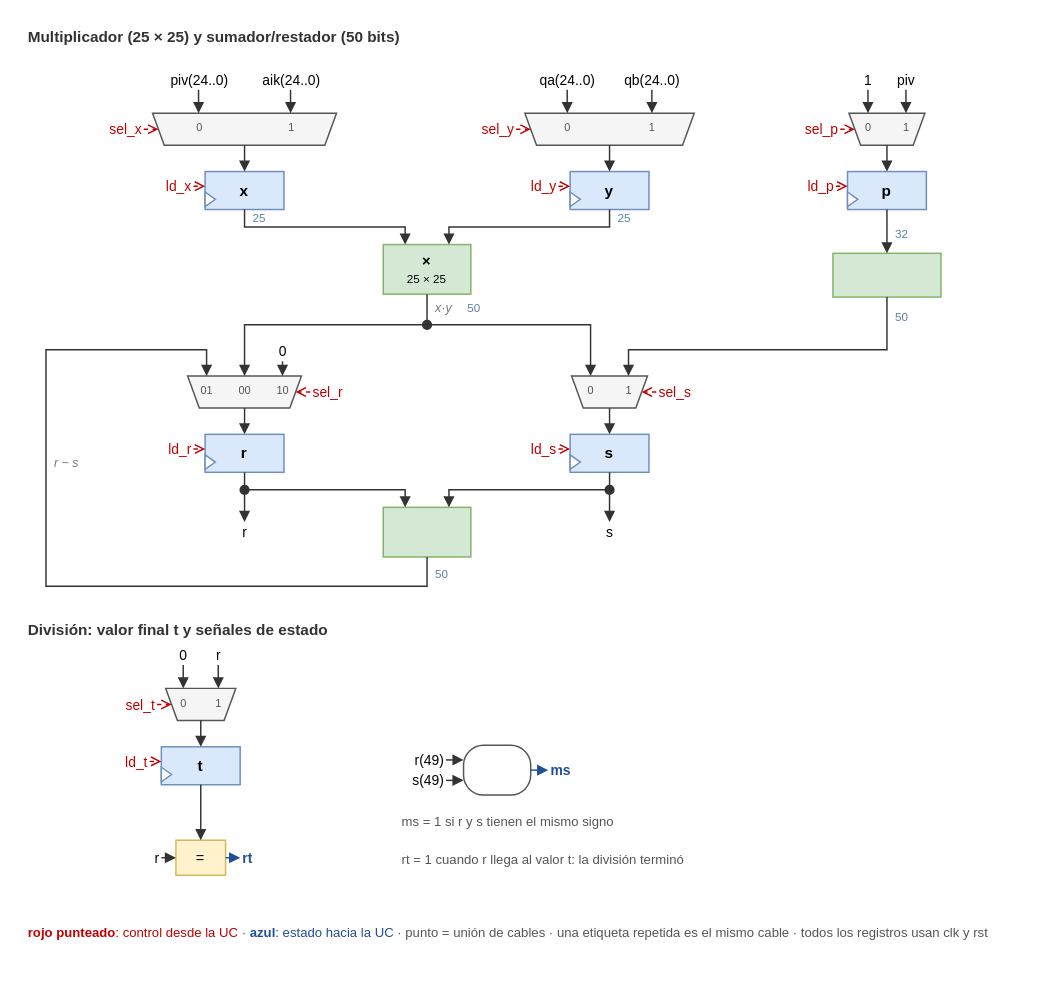
Image size: 1042x981. Some labels were removed from this diagram. The shapes that lost their labels are listed below. From the top down, each one's centre as x and y in pixels, then its label:
At (x=886, y=274): "ext. signo 32 → 50".
At (x=426, y=531): "− r − s".
At (x=496, y=769): "XNOR".
